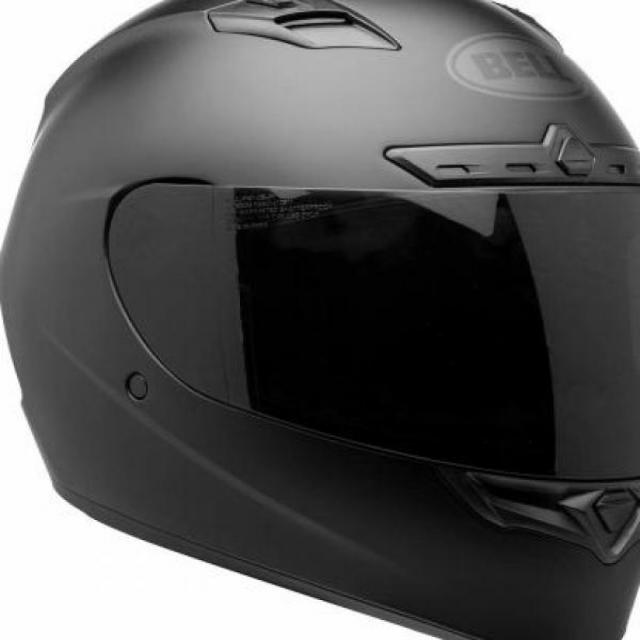Helmet: (3, 1, 637, 640)
